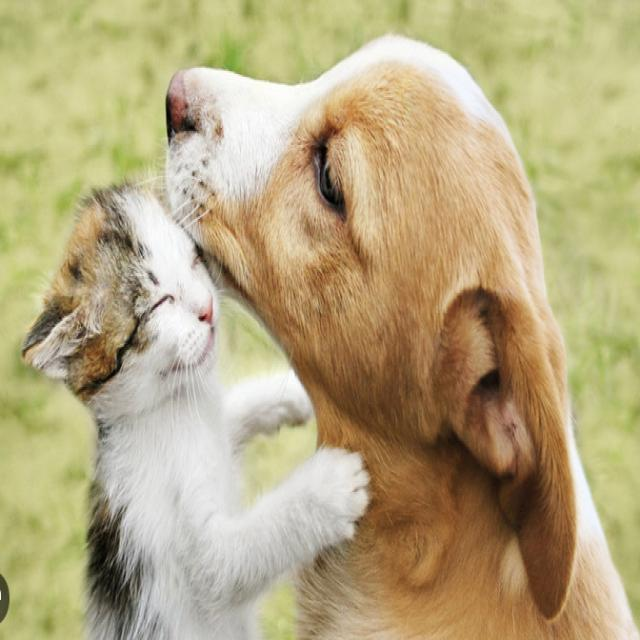cats: (43, 194, 233, 614)
dogs: (175, 52, 618, 495)
